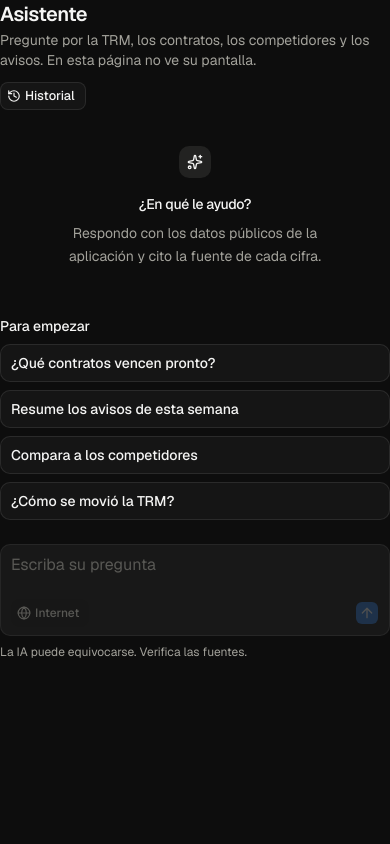
it: AssistantPage › opens the history in a drawer from the Historial button (mobile)
Click the button "Historial" at (43, 96), box [0,82,86,110]
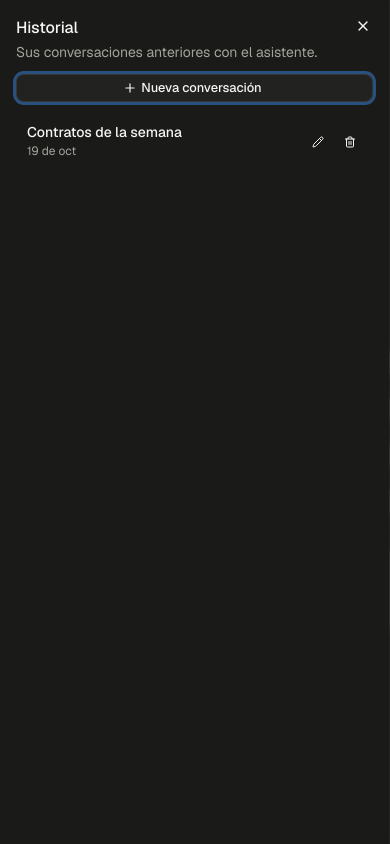
Click the button "Contratos de la semana" at (162, 133), box [27,123,298,142]
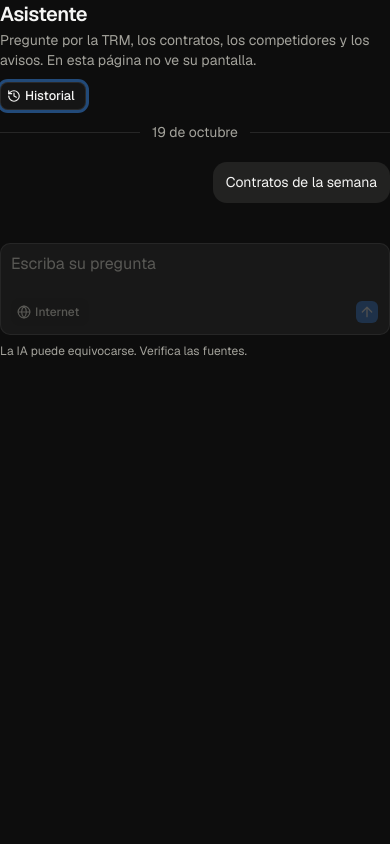
Now the dialog is gone
